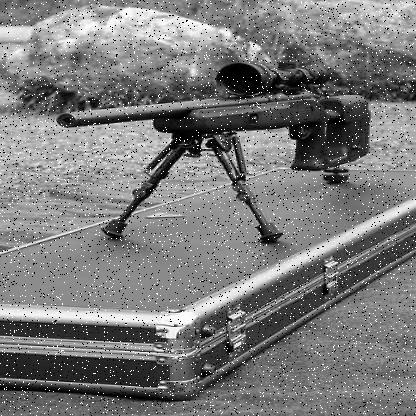rifle: (30, 44, 407, 239)
